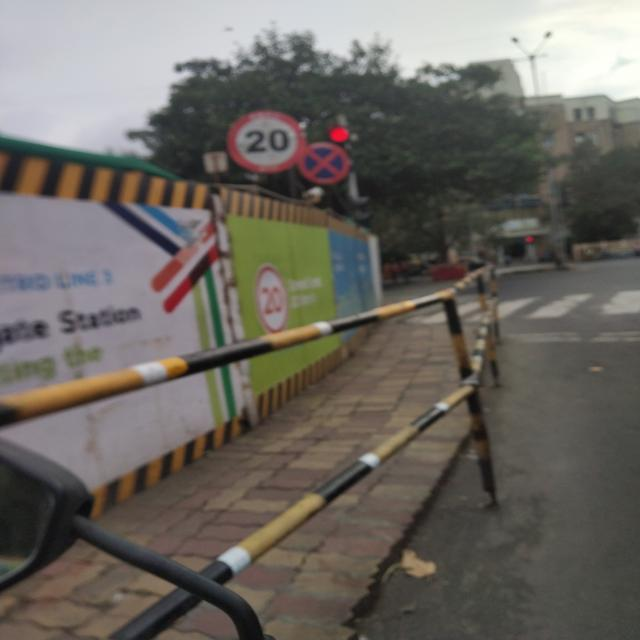forb_speed_over_20: (225, 108, 306, 175)
